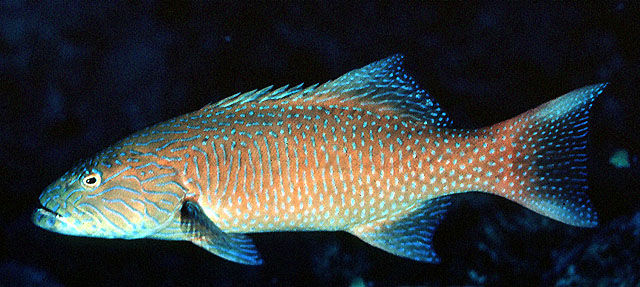fish: (31, 53, 609, 266)
